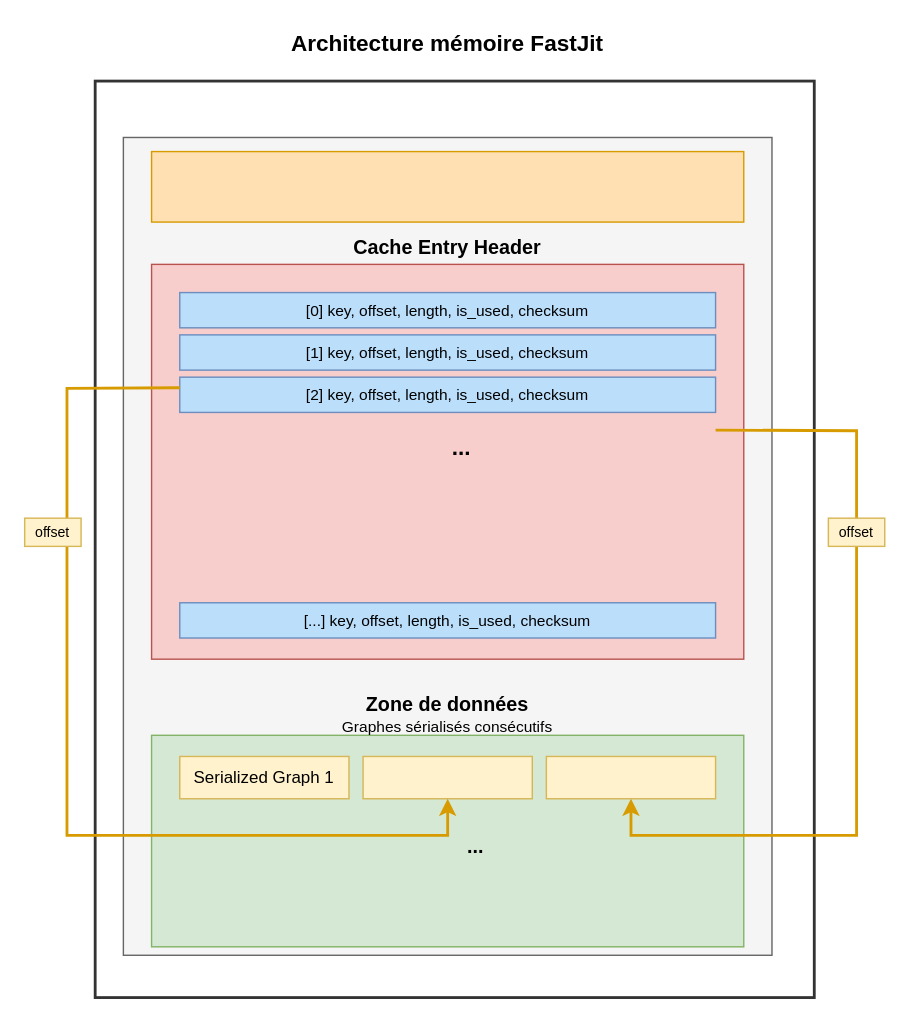
Some shapes in this 909 by 1022 pixel diagram are drawn without their labels. The shapes that lost their labels are listed below. From the top down, each one's centre as x and y in pixels, then its label:
At (x=447, y=186): "Cache Header cache_id, version entry_count, next_offset".
At (x=447, y=777): "Serialized Graph 2".
At (x=630, y=777): "Serialized Graph 3".
